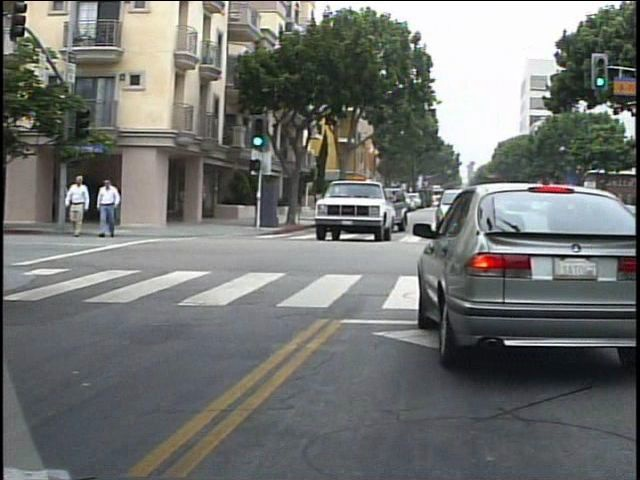person: (69, 170, 99, 241), (101, 174, 130, 241)
